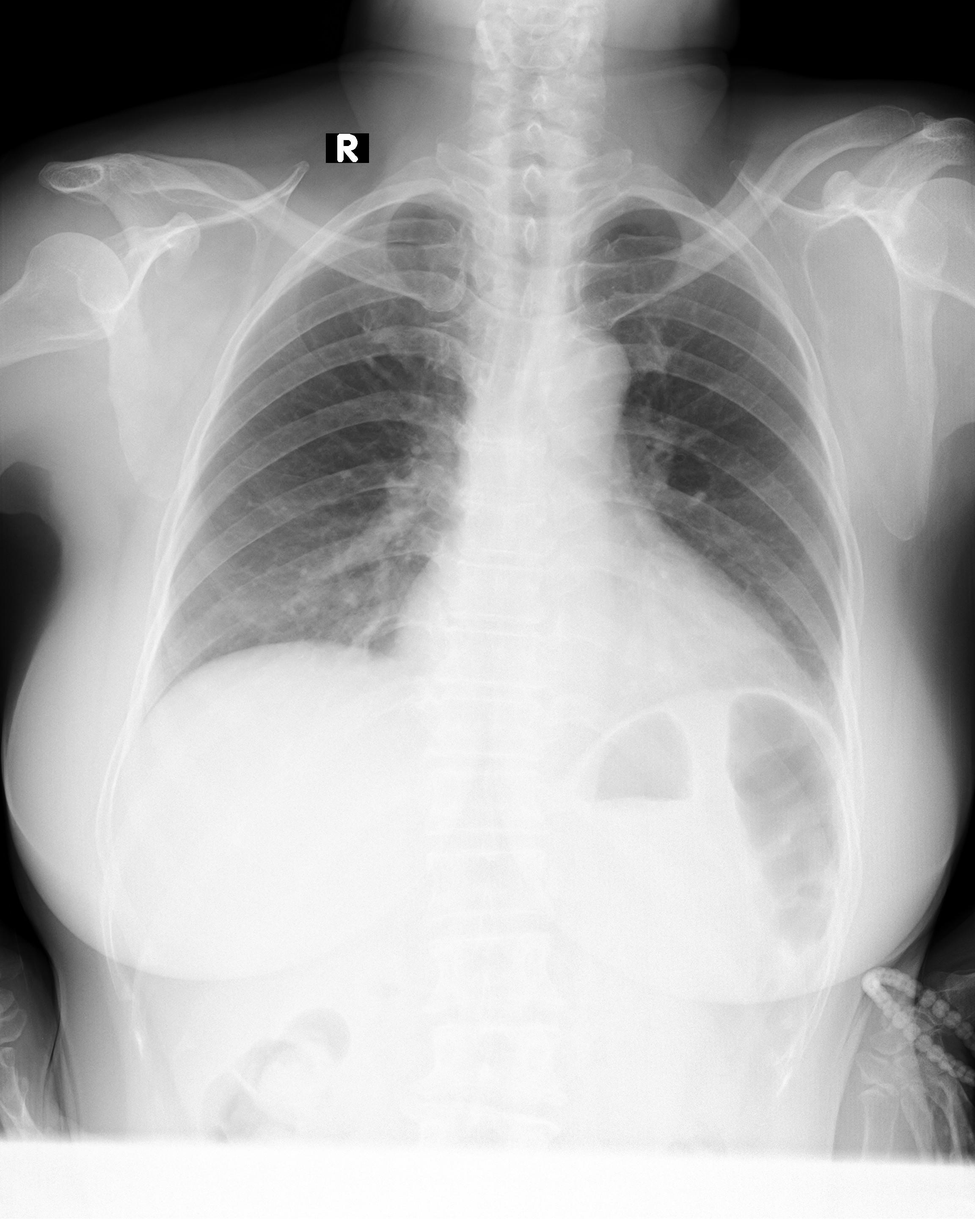Aortic enlargement: (534, 321, 631, 439)
Cardiomegaly: (387, 586, 815, 702)
Pleural thickening: (585, 207, 697, 249)
Pulmonary fibrosis: (363, 356, 401, 389)
